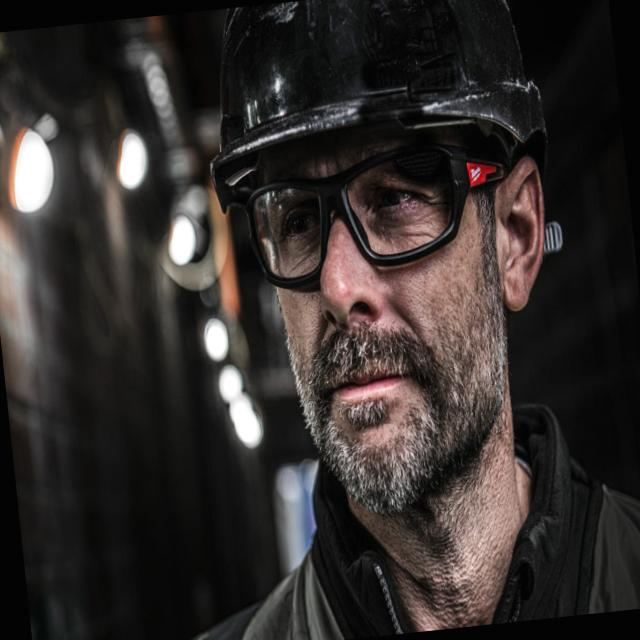goggles: (235, 160, 486, 282)
helmet: (198, 0, 553, 175)
